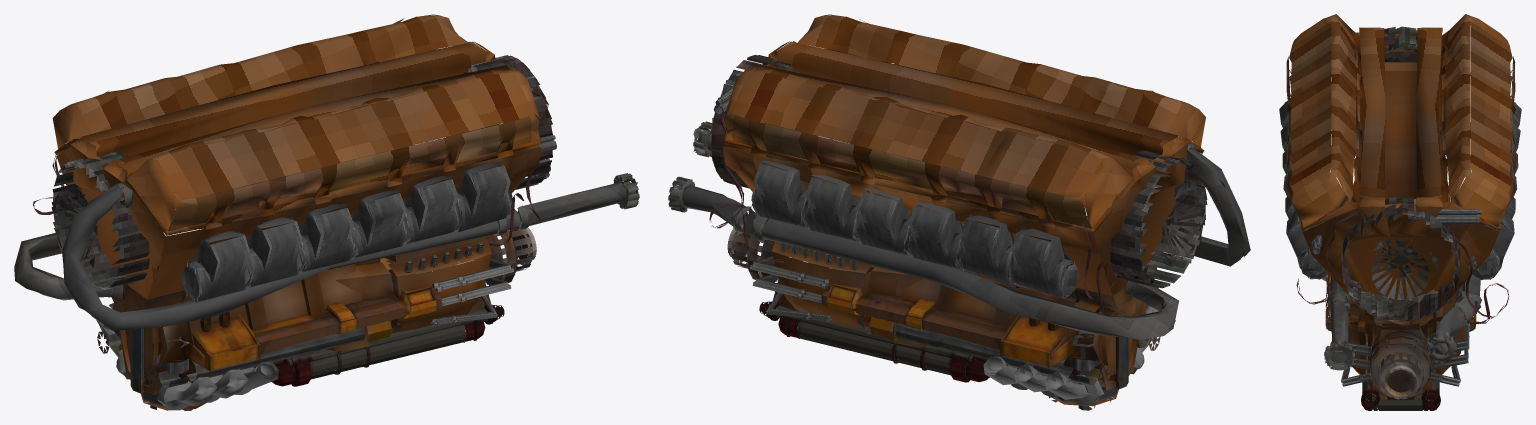
Rendered from eng-m-i4-1000.glb.
The picture shows the model from 3 angles, left to right: view 1: azimuth 30°, elevation 25°; view 2: azimuth 150°, elevation 25°; view 3: azimuth 270°, elevation 25°; orthographic projection. The views are drawn at different scales.
Parts seen in each view (by area): view 1: p0; view 2: p0; view 3: p0.
Boxes of the visible parts, <box> form: p0: <box>14,14,639,410</box>; p0: <box>668,14,1250,410</box>; p0: <box>1279,14,1521,410</box>.
Size of the model in its own units: 22.85 by 11.29 by 9.63.
13 materials, 13 textured.
